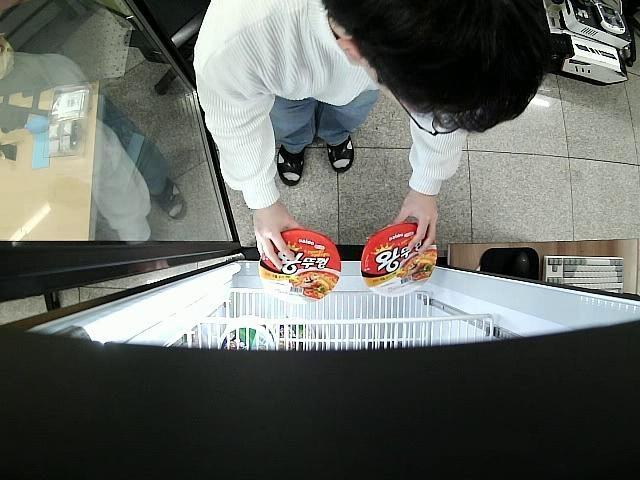10_wangTtukkeong: (260, 229, 341, 304), (361, 222, 436, 297)
